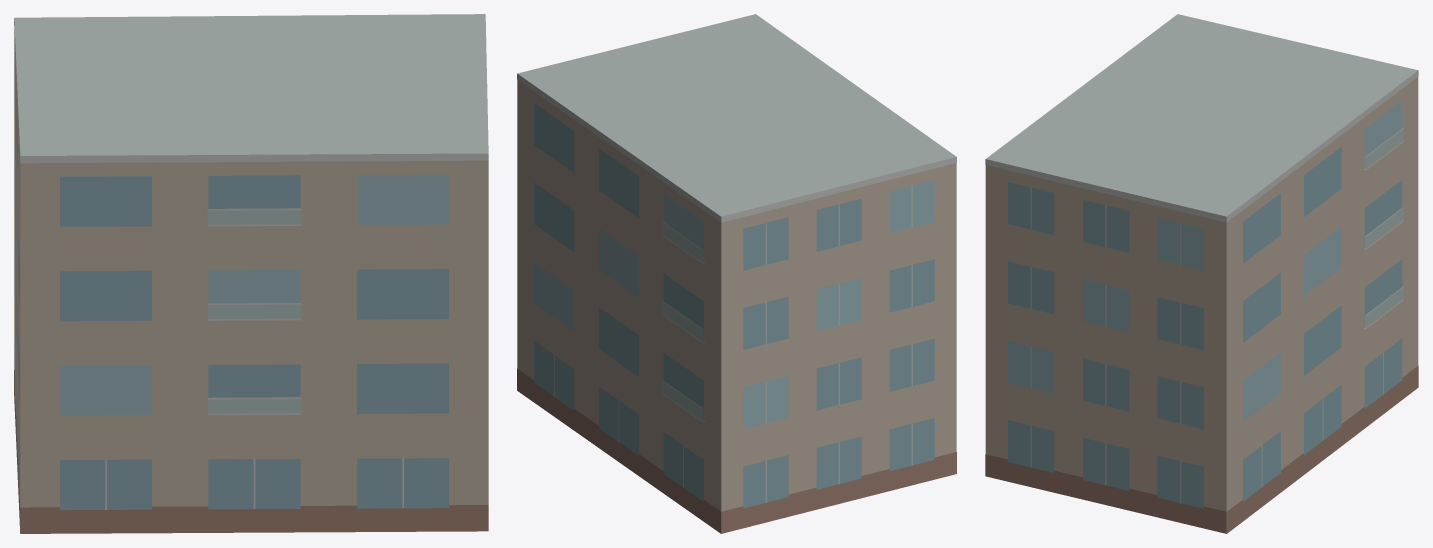
The model's file is survey-upis-32876000.glb.
3 views of the same model, side by side, from view 1: azimuth 30°, elevation 25°; view 2: azimuth 150°, elevation 25°; view 3: azimuth 270°, elevation 25° (orthographic). The views are drawn at different scales.
Visible parts, largest first — view 1: survey-upis-32876000.tmp; view 2: survey-upis-32876000.tmp; view 3: survey-upis-32876000.tmp.
Part boxes in pixels (x1,y1,x2,y2): survey-upis-32876000.tmp: [14, 14, 488, 533]; survey-upis-32876000.tmp: [517, 14, 956, 533]; survey-upis-32876000.tmp: [985, 14, 1418, 533].
Size of the model in its own units: 17.54 by 12.8 by 15.84.
